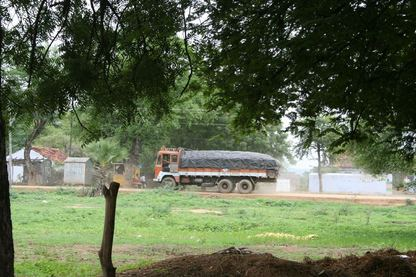truck: (150, 147, 281, 199)
